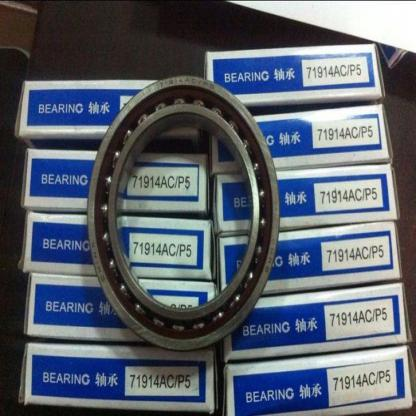FOD: (80, 74, 282, 360)
